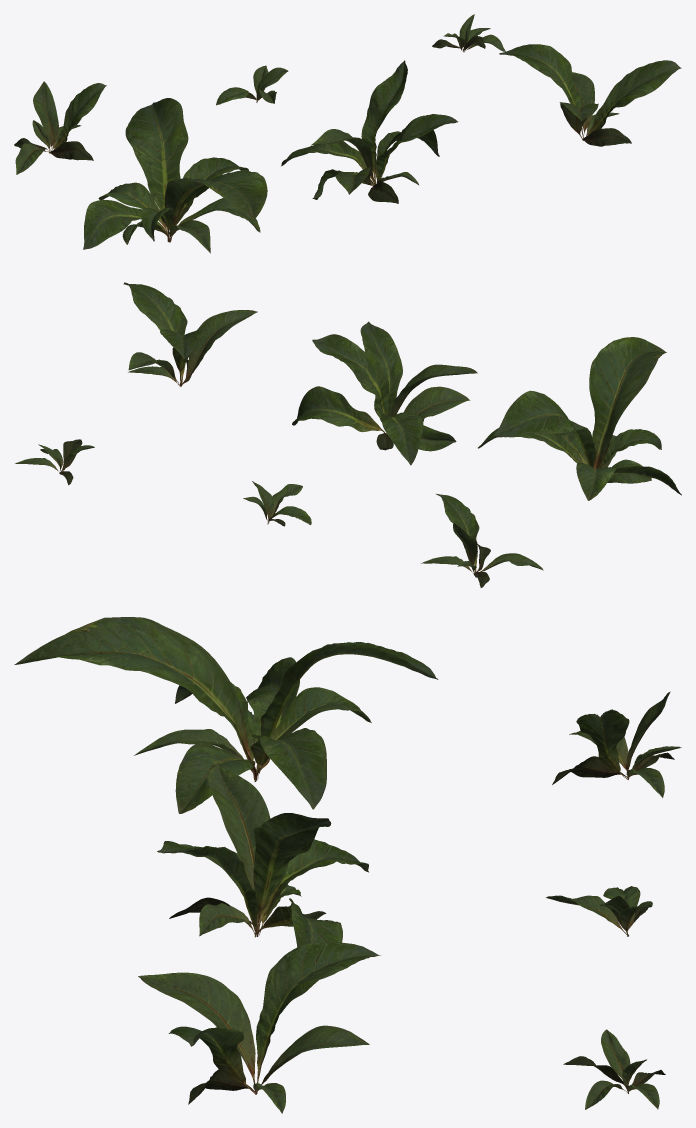
Rendered from anthurium_botany_01.glb.
3 views of the same model, one above another, from view 1: azimuth 30°, elevation 25°; view 2: azimuth 150°, elevation 25°; view 3: azimuth 270°, elevation 25° (orthographic). The views are drawn at different scales.
Parts seen in each view (by area): view 1: anthurium_botany_01_a, anthurium_botany_01_b, anthurium_botany_01_c, anthurium_botany_04_d, anthurium_botany_05_e, anthurium_botany_06_f; view 2: anthurium_botany_01_a, anthurium_botany_01_b, anthurium_botany_01_c, anthurium_botany_04_d, anthurium_botany_05_e, anthurium_botany_06_f; view 3: anthurium_botany_01_a, anthurium_botany_01_b, anthurium_botany_01_c, anthurium_botany_04_d, anthurium_botany_06_f, anthurium_botany_05_e.
Part boxes in pixels (x1,y1,x2,y2): anthurium_botany_01_a: [83, 98, 267, 253]; anthurium_botany_01_b: [281, 60, 458, 203]; anthurium_botany_01_c: [499, 44, 681, 146]; anthurium_botany_04_d: [14, 81, 106, 174]; anthurium_botany_05_e: [216, 65, 288, 105]; anthurium_botany_06_f: [432, 14, 505, 52]; anthurium_botany_01_a: [478, 337, 681, 500]; anthurium_botany_01_b: [292, 321, 477, 465]; anthurium_botany_01_c: [123, 282, 257, 386]; anthurium_botany_04_d: [421, 494, 543, 587]; anthurium_botany_05_e: [243, 481, 311, 526]; anthurium_botany_06_f: [15, 439, 94, 485]; anthurium_botany_01_a: [14, 617, 438, 813]; anthurium_botany_01_b: [157, 763, 368, 946]; anthurium_botany_01_c: [138, 941, 380, 1113]; anthurium_botany_04_d: [552, 691, 681, 797]; anthurium_botany_06_f: [563, 1029, 665, 1109]; anthurium_botany_05_e: [546, 886, 652, 936].
Bounding box in the file's own units: 2.8 × 0.4996 × 1.8.
Materials: 1 (1 with a texture image).
